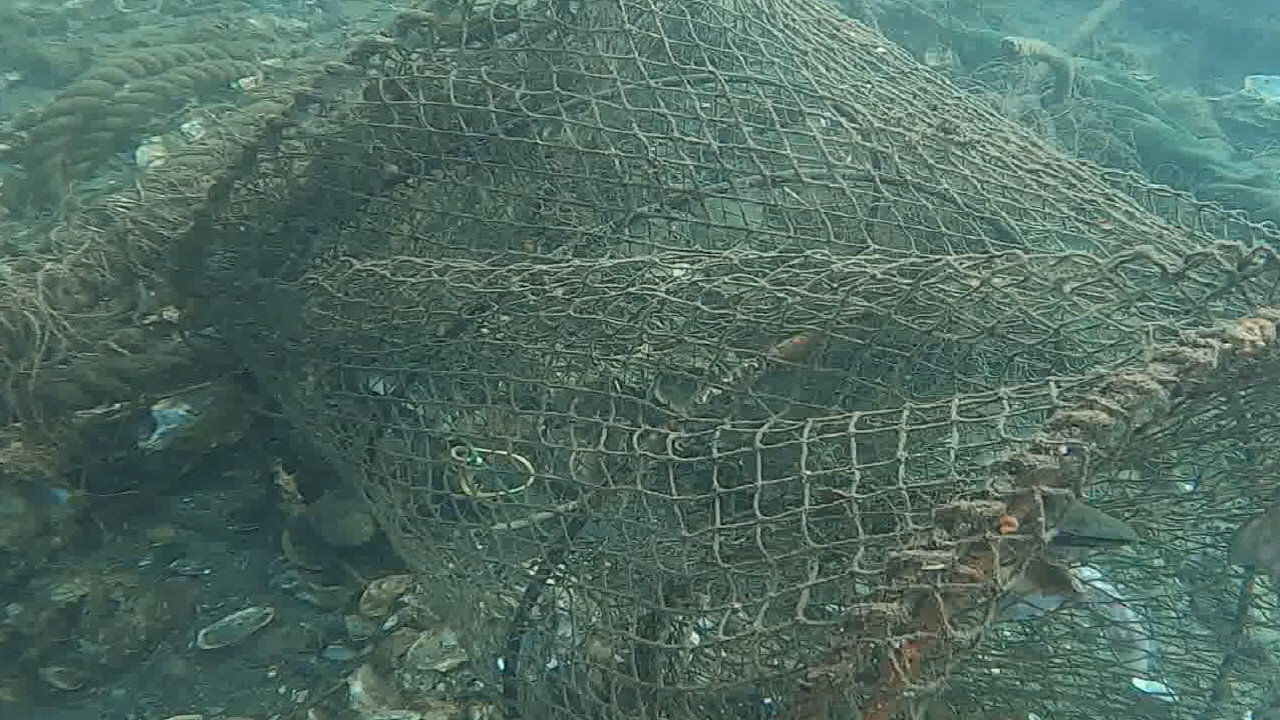bundle of ropes: (24, 40, 254, 208)
spring fish trap: (168, 0, 1280, 720)
